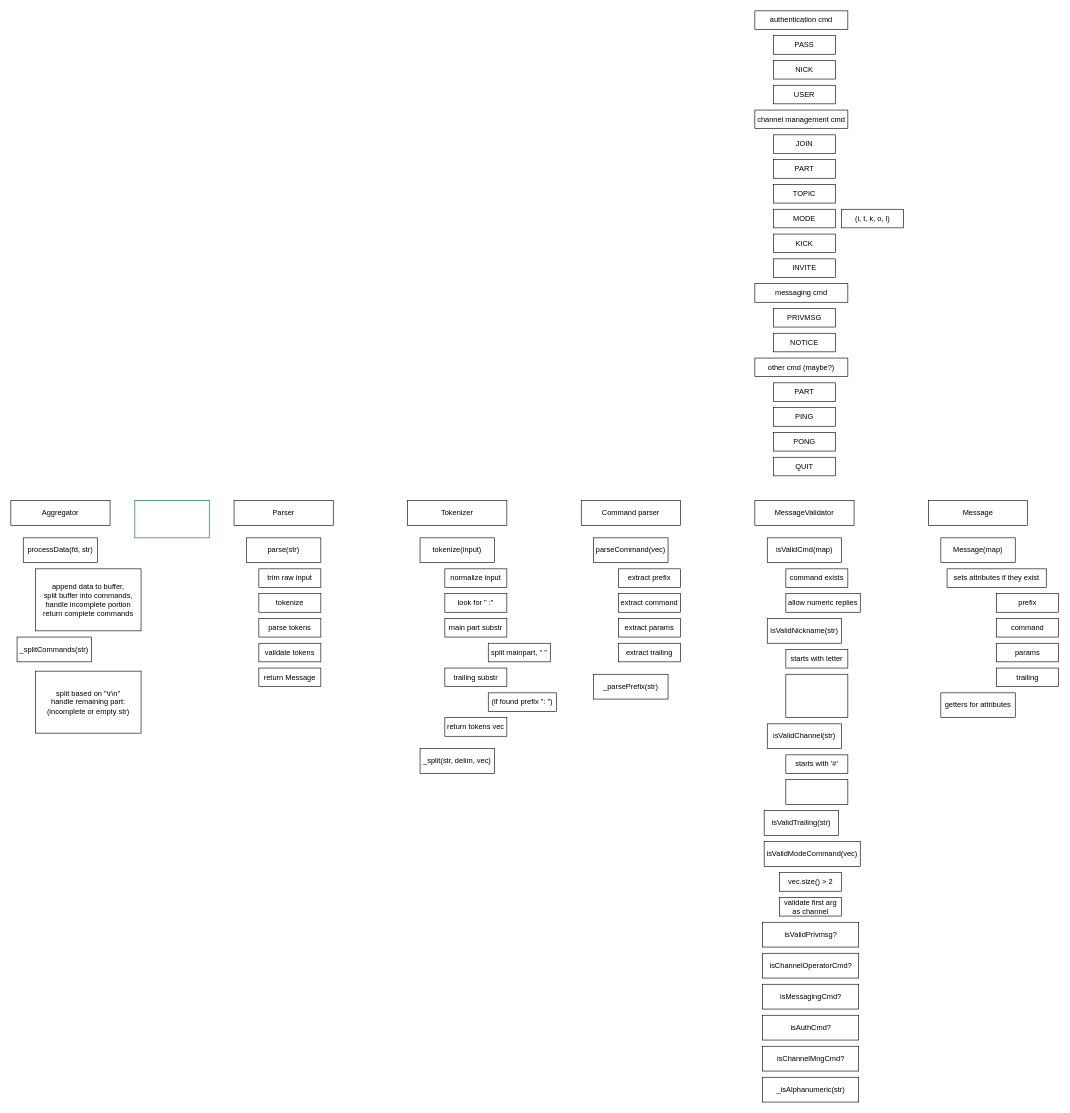
The diagram is 1070 pixels wide and 1113 high, and some of its shapes have lost their labels. Each missing label, with the box of its shape:
Command Parsing and Handling: (134, 500, 209, 538)
contains only letters and digits: (785, 779, 848, 804)
contains only letters, digits, dashed and underscores: (785, 674, 848, 718)
